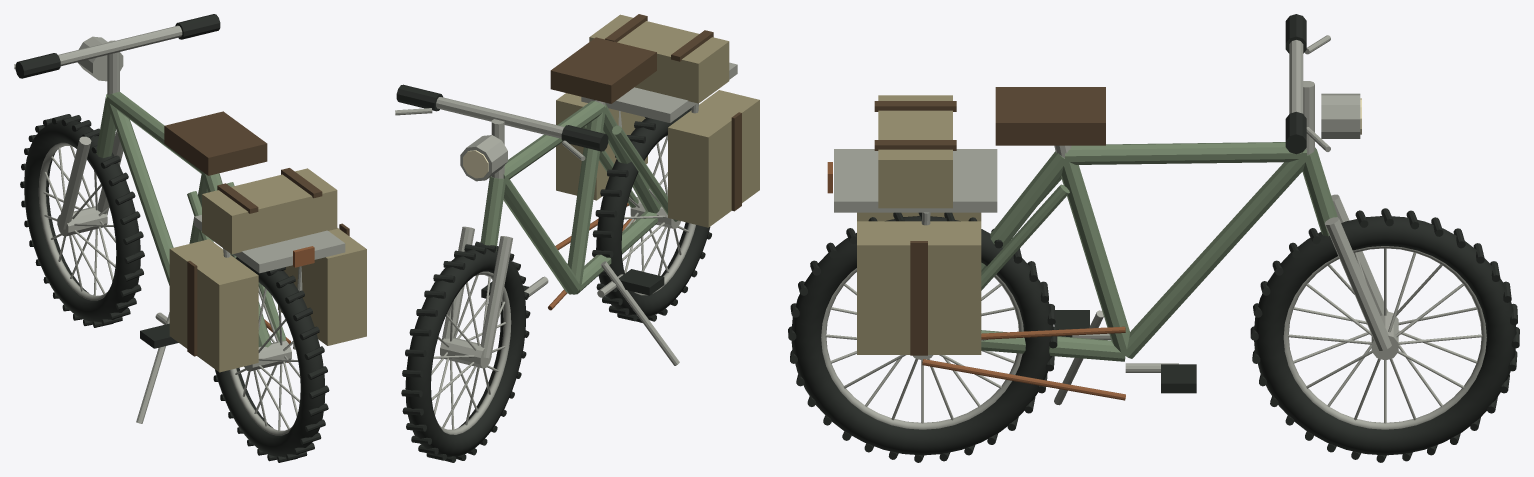
Rendered from shelter_bike.glb.
3 renders of one model, left to right at view 1: azimuth 30°, elevation 25°; view 2: azimuth 150°, elevation 25°; view 3: azimuth 270°, elevation 25°, orthographic. The views are drawn at different scales.
Visible parts, largest first — view 1: Canvas pannier, Tyre front, Bedroll, Tyre rear, Canvas pannier.001, Leather saddle, Olive frame.003, Cargo rack, Handlebar, Rim front, Olive frame.002, Fork (+17 smaller); view 2: Canvas pannier, Tyre front, Bedroll, Tyre rear, Leather saddle, Canvas pannier.001, Olive frame.001, Olive frame.003, Cargo rack, Olive frame.002, Handlebar, Fork (+18 smaller); view 3: Tyre front, Tyre rear, Canvas pannier.001, Bedroll, Leather saddle, Cargo rack, Olive frame.003, Olive frame.002, Olive frame.001, Rim front, Rim rear, Fork.001 (+15 smaller).
Boxes of the visible parts, box(x1,y1,x2,y2) form: Canvas pannier: box(169, 239, 258, 372); Tyre front: box(24, 118, 140, 322); Bedroll: box(202, 168, 337, 254); Tyre rear: box(215, 257, 325, 457); Canvas pannier.001: box(278, 228, 366, 345); Leather saddle: box(164, 111, 267, 175); Olive frame.003: box(106, 98, 173, 285); Cargo rack: box(194, 215, 345, 273); Handlebar: box(58, 25, 182, 66); Rim front: box(38, 142, 108, 300); Olive frame.002: box(107, 92, 201, 173); Fork: box(58, 136, 91, 229); Canvas pannier: box(668, 90, 759, 227); Tyre front: box(405, 246, 526, 457); Bedroll: box(589, 14, 729, 103); Tyre rear: box(596, 110, 710, 317); Leather saddle: box(550, 37, 656, 103); Canvas pannier.001: box(556, 93, 647, 200); Olive frame.001: box(567, 108, 605, 288); Olive frame.003: box(503, 179, 579, 294); Cargo rack: box(581, 62, 737, 122); Olive frame.002: box(503, 101, 604, 180); Handlebar: box(436, 97, 564, 138); Fork: box(480, 236, 512, 358); Tyre front: box(1254, 216, 1516, 455); Tyre rear: box(791, 216, 1053, 455); Canvas pannier.001: box(857, 221, 981, 354); Bedroll: box(878, 95, 952, 208); Leather saddle: box(995, 87, 1105, 145); Cargo rack: box(834, 149, 997, 212); Olive frame.003: box(1126, 154, 1308, 358); Olive frame.002: box(1065, 142, 1306, 164); Olive frame.001: box(1061, 158, 1129, 356); Rim front: box(1283, 246, 1486, 429); Rim rear: box(821, 268, 1023, 429); Fork.001: box(1324, 217, 1391, 350).
Bounding box in the file's own units: 0.8 × 1.19 × 2.06.
